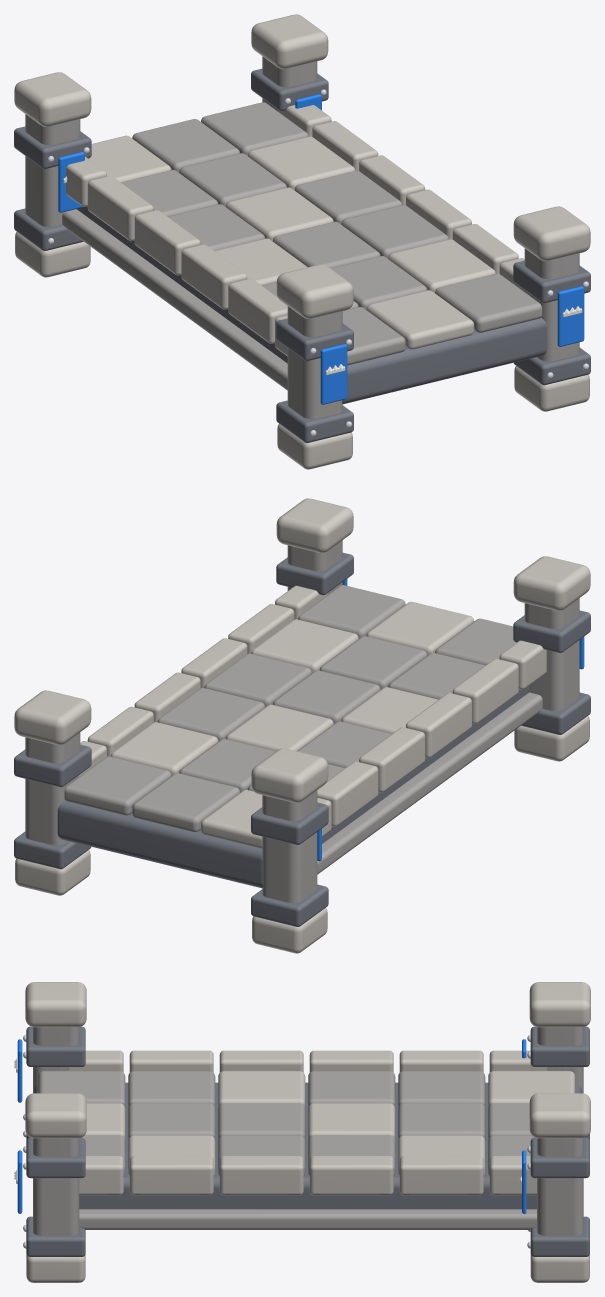
The model's file is stone-bridge.glb.
3 renders of one model, top to bottom at view 1: azimuth 30°, elevation 25°; view 2: azimuth 150°, elevation 25°; view 3: azimuth 270°, elevation 25°, orthographic. The views are drawn at different scales.
Visible parts, largest first — view 1: individual rounded stone road slab.002, individual rounded stone road slab, thick stone deck substrate, blue hanging team banner, blue hanging team banner.002, blue hanging team banner.001; view 2: individual rounded stone road slab.002, individual rounded stone road slab, thick stone deck substrate; view 3: individual rounded stone road slab.002, individual rounded stone road slab, thick stone deck substrate.
Boxes of the visible parts, left/top/right/bottom form: individual rounded stone road slab.002: left=14, top=14, right=590, bottom=469; individual rounded stone road slab: left=25, top=56, right=579, bottom=419; thick stone deck substrate: left=14, top=68, right=590, bottom=442; blue hanging team banner: left=320, top=344, right=347, bottom=404; blue hanging team banner.002: left=557, top=286, right=584, bottom=346; blue hanging team banner.001: left=58, top=152, right=84, bottom=212; individual rounded stone road slab.002: left=14, top=498, right=590, bottom=953; individual rounded stone road slab: left=25, top=540, right=579, bottom=903; thick stone deck substrate: left=14, top=552, right=590, bottom=926; individual rounded stone road slab.002: left=25, top=982, right=590, bottom=1282; individual rounded stone road slab: left=33, top=1027, right=583, bottom=1235; thick stone deck substrate: left=26, top=1026, right=589, bottom=1256.
Size of the model in its own units: 3.24 by 1.91 by 5.84.
